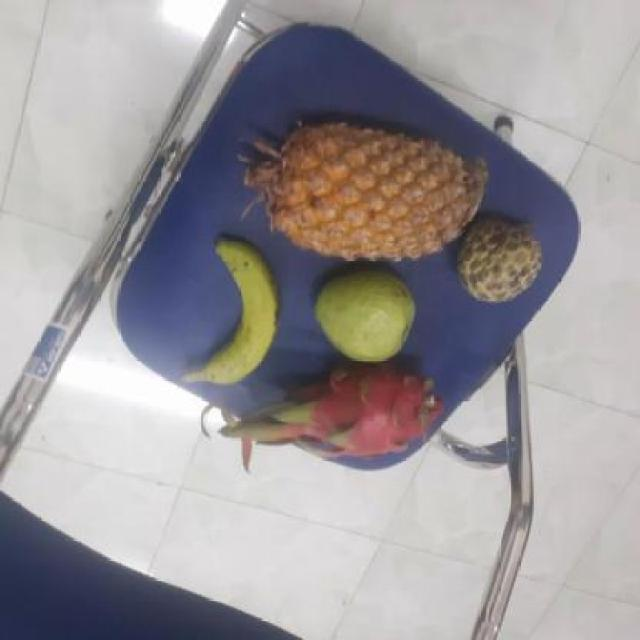banana: (185, 243, 280, 386)
dragon fruit: (253, 356, 444, 464)
guava: (309, 268, 420, 366)
pineapple: (266, 126, 482, 260)
sugar apple: (450, 217, 542, 301)
